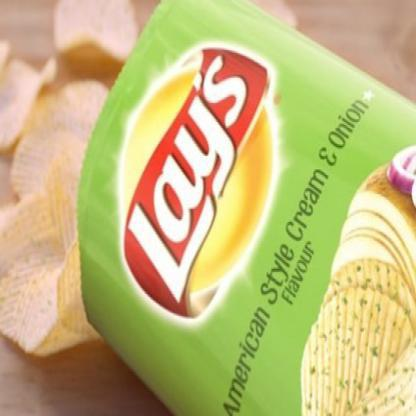cream_and_onion: (76, 3, 414, 412)
